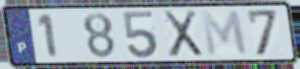1: (36, 13, 61, 59)
5: (122, 9, 160, 60)
7: (246, 8, 282, 58)
8: (80, 10, 117, 61)
M: (198, 9, 250, 58)
X: (160, 9, 205, 59)
